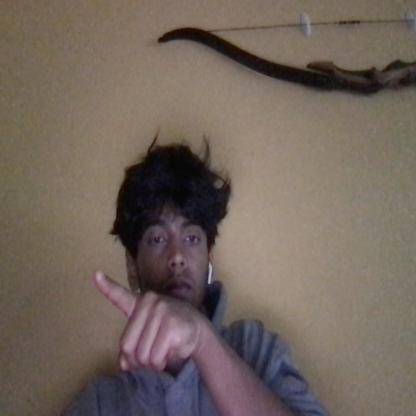finger_point: (79, 249, 120, 300)
